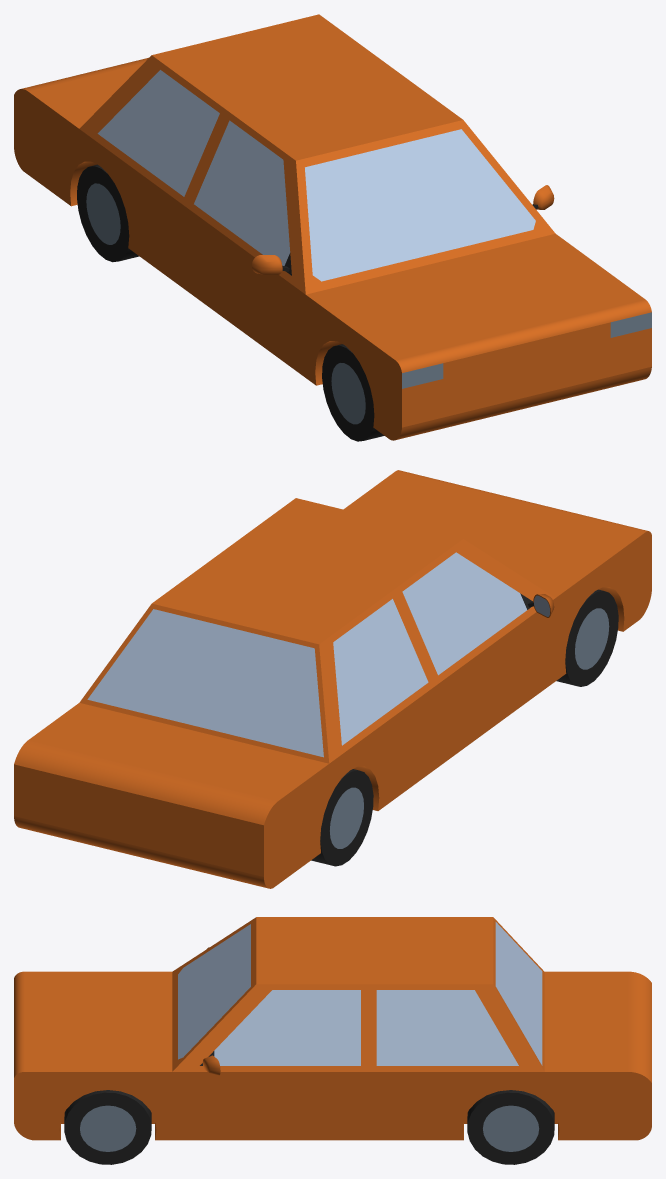
The model's file is dummy_car.dae.
The picture shows the model from 3 angles, top to bottom: view 1: azimuth 30°, elevation 25°; view 2: azimuth 150°, elevation 25°; view 3: azimuth 270°, elevation 25°; orthographic projection. The views are drawn at different scales.
Parts seen in each view (by area): view 1: SketchUp (×10); view 2: SketchUp (×8); view 3: SketchUp (×9).
Part boxes in pixels (x1,y1,x2,y2): SketchUp (×10): [14, 14, 651, 441]; SketchUp (×8): [14, 470, 651, 888]; SketchUp (×9): [14, 917, 651, 1164].
Bounding box in the file's own units: 71.26 × 160 × 45.82.
